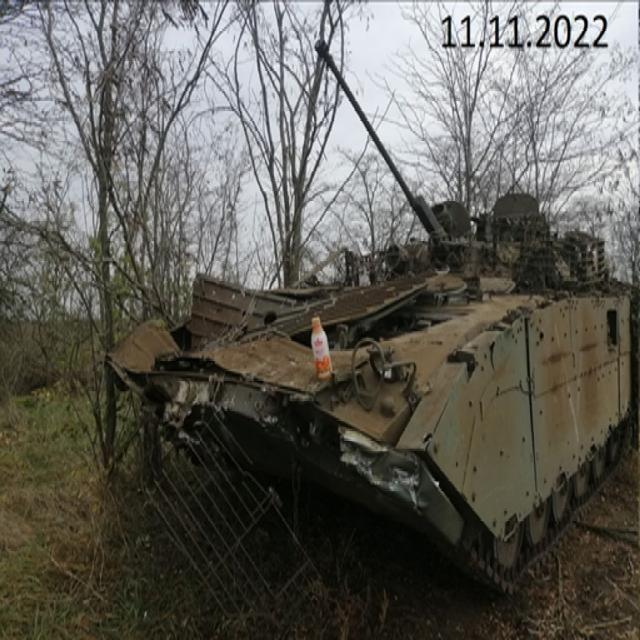APC-IFV: (134, 29, 638, 593)
